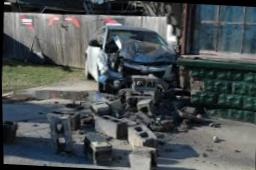Bonnet: (104, 38, 171, 63)
Bumper: (99, 64, 176, 87)
Light: (104, 55, 117, 67)
